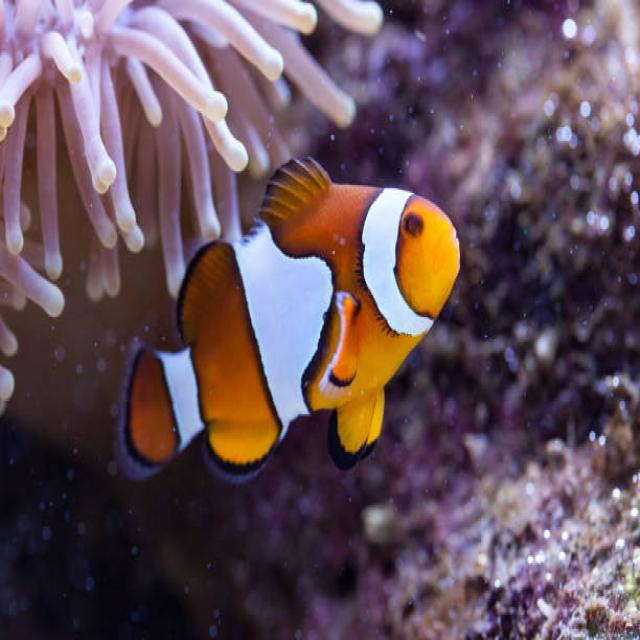ClownFish: (128, 155, 462, 477)
